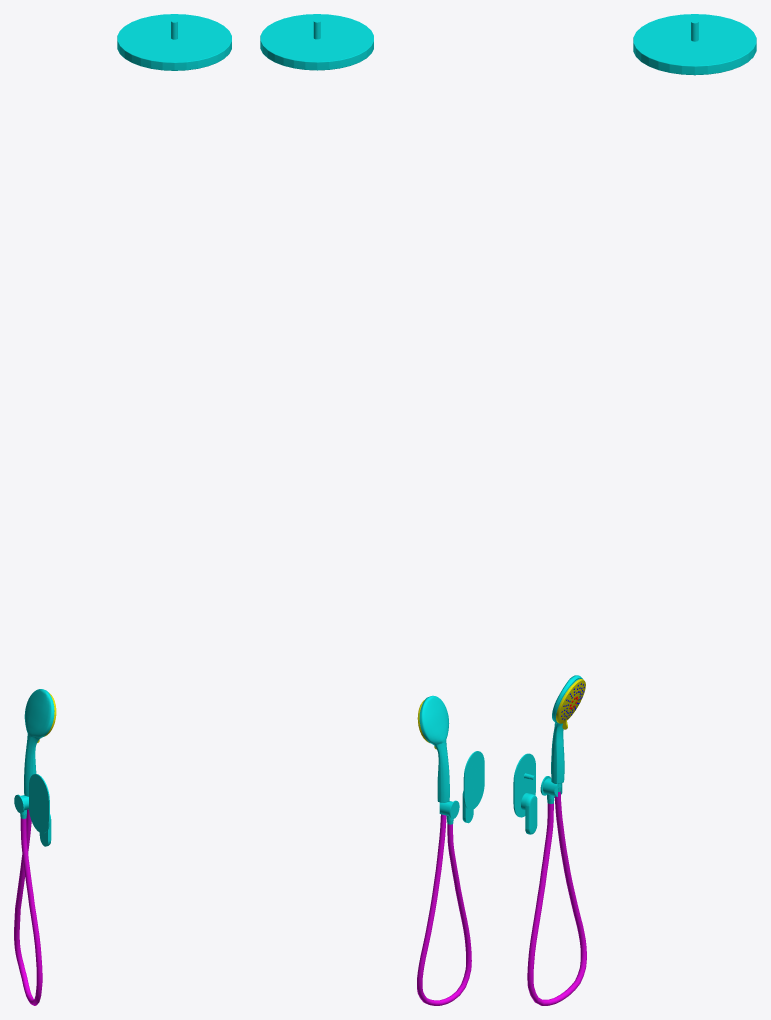
The model's file is ShowerBath03.fbx.
3 renders of one model, left to right at view 1: azimuth 30°, elevation 25°; view 2: azimuth 150°, elevation 25°; view 3: azimuth 330°, elevation 25°, orthographic. The views are drawn at different scales.
Visible parts, largest first — view 1: OHShowerBath03, HoistBath03, ShowerBath03, ShowerBackPanelBath03; view 2: OHShowerBath03, HoistBath03, ShowerBath03, ShowerBackPanelBath03; view 3: OHShowerBath03, HoistBath03, ShowerBath03, ShowerBackPanelBath03, ShowerHeadMuzzleBath03, ShowerTapBath03.
Boxes of the visible parts, x1,y1,x2,y2 form: OHShowerBath03: [117, 14, 231, 70]; HoistBath03: [14, 809, 42, 1005]; ShowerBath03: [24, 689, 54, 796]; ShowerBackPanelBath03: [29, 774, 49, 833]; OHShowerBath03: [260, 14, 373, 70]; HoistBath03: [417, 814, 471, 1005]; ShowerBath03: [419, 695, 449, 802]; ShowerBackPanelBath03: [463, 751, 484, 809]; OHShowerBath03: [633, 14, 756, 75]; HoistBath03: [527, 791, 586, 1005]; ShowerBath03: [551, 675, 583, 784]; ShowerBackPanelBath03: [513, 753, 535, 817]; ShowerHeadMuzzleBath03: [557, 680, 585, 723]; ShowerTapBath03: [521, 793, 537, 834].
Size of the model in its own units: 48.36 by 223 by 24.37.
